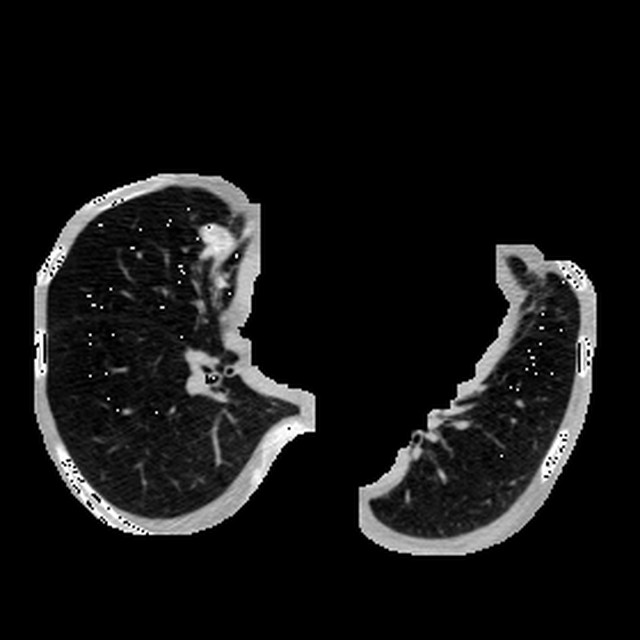PN: (201, 222, 233, 254)
